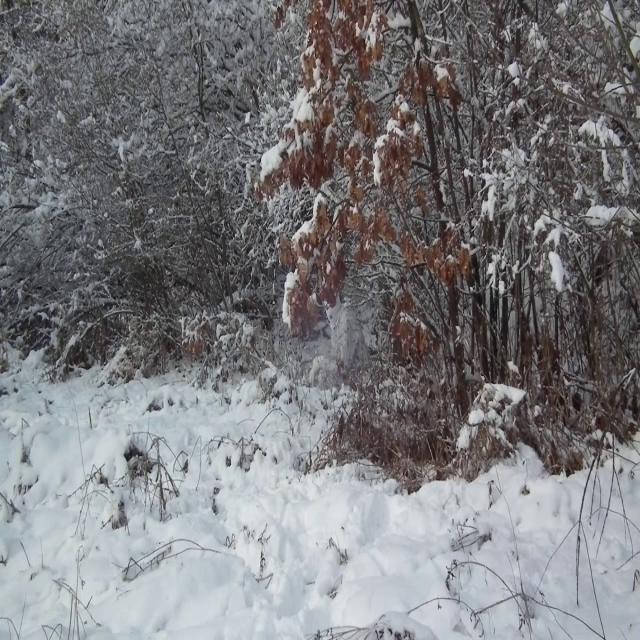Camouflage: (310, 287, 370, 391)
